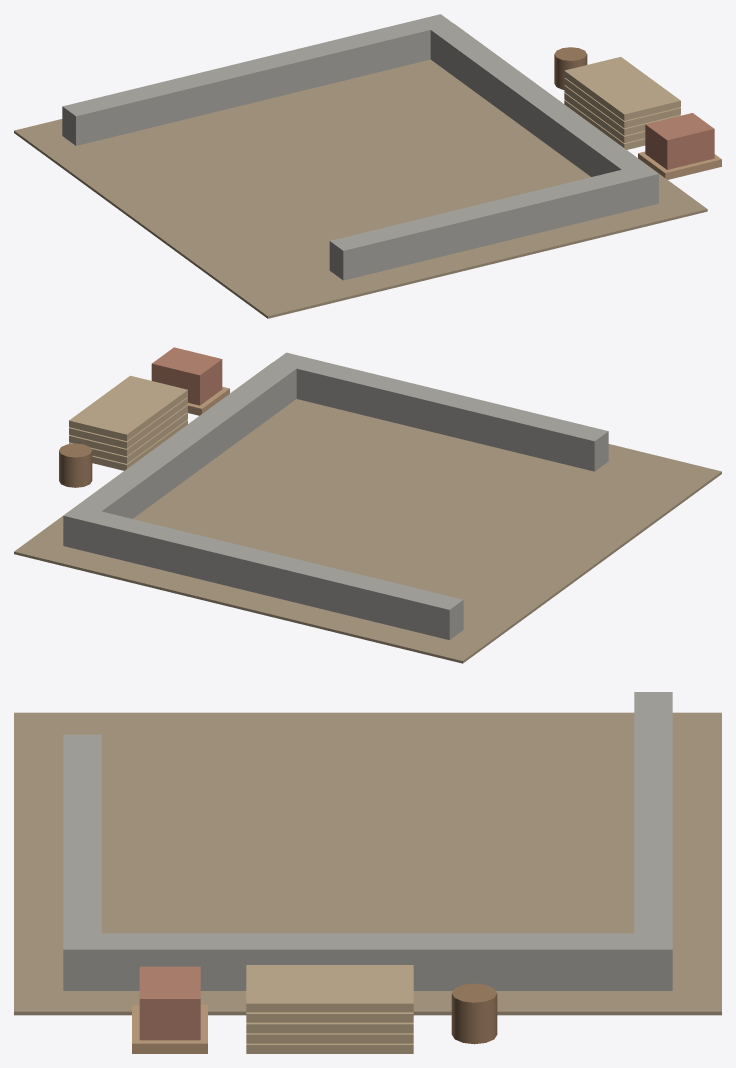
The model's file is cow_shed_site_2.glb.
The picture shows the model from 3 angles, top to bottom: view 1: azimuth 30°, elevation 25°; view 2: azimuth 150°, elevation 25°; view 3: azimuth 270°, elevation 25°; orthographic projection. The views are drawn at different scales.
Visible parts, largest first — view 1: body; view 2: body; view 3: body.
Part boxes in pixels (x1,y1,x2,y2): body: [14, 14, 721, 318]; body: [14, 347, 721, 663]; body: [14, 692, 721, 1053].
Size of the model in its own units: 2.1 by 0.15 by 1.86.
